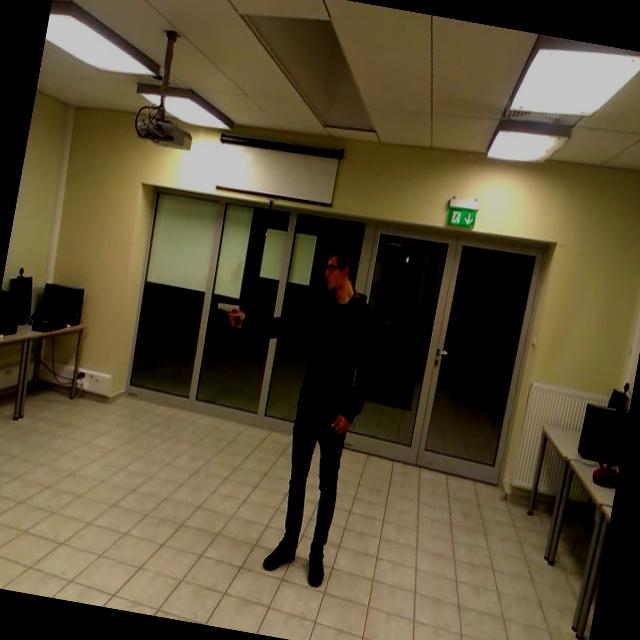handgun: (208, 292, 250, 340)
